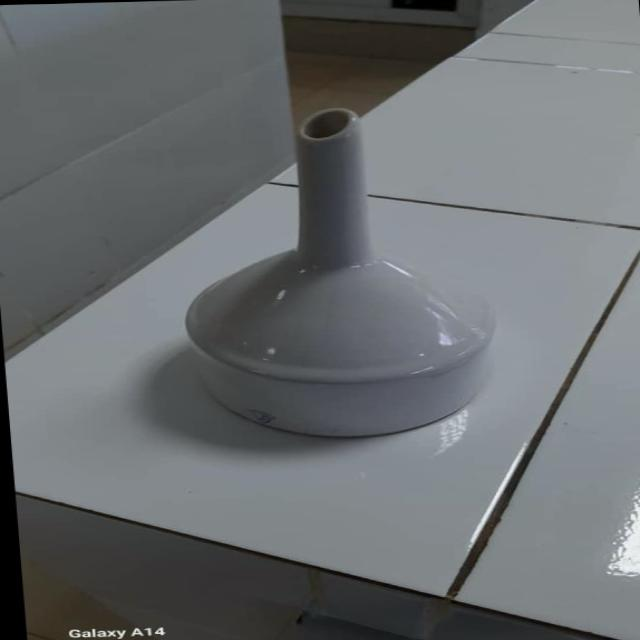Bunchen funnel: (161, 107, 520, 449)
